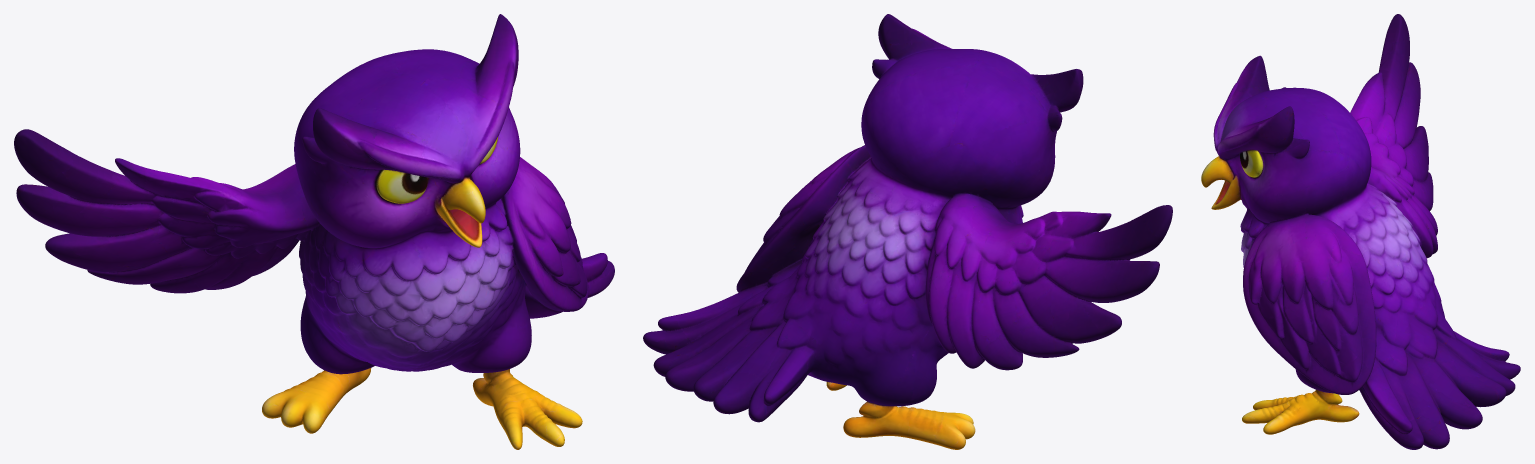
Rendered from 3d_creeper.glb.
3 views of the same model, side by side, from view 1: azimuth 30°, elevation 25°; view 2: azimuth 150°, elevation 25°; view 3: azimuth 270°, elevation 25° (orthographic). The views are drawn at different scales.
Bounding box in the file's own units: 1.9 × 1.25 × 1.18.
1 material, 1 textured.
